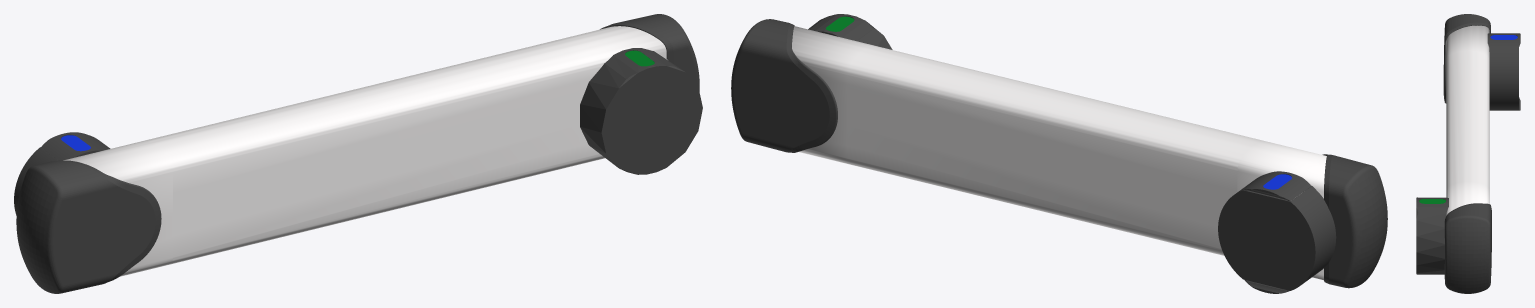
Rendered from BoomSegment_2_Top.fbx.
3 renders of one model, left to right at view 1: azimuth 30°, elevation 25°; view 2: azimuth 150°, elevation 25°; view 3: azimuth 270°, elevation 25°, orthographic. The views are drawn at different scales.
Parts seen in each view (by area): view 1: BoomSegment_1-2, BoomSegment_1-3, BoomSegment_1-1, BoomSegment_1-3.001; view 2: BoomSegment_1-2, BoomSegment_1-1, BoomSegment_1-3.001, BoomSegment_1-3; view 3: BoomSegment_1-1, BoomSegment_1-2, BoomSegment_1-3.001, BoomSegment_1-3.
Boxes of the visible parts, x1,y1,x2,y2 form: BoomSegment_1-2: [144, 42, 578, 264]; BoomSegment_1-3: [16, 141, 172, 293]; BoomSegment_1-1: [550, 14, 702, 174]; BoomSegment_1-3.001: [14, 132, 110, 215]; BoomSegment_1-2: [847, 46, 1264, 255]; BoomSegment_1-1: [731, 14, 892, 164]; BoomSegment_1-3.001: [1218, 171, 1336, 293]; BoomSegment_1-3: [1237, 141, 1387, 288]; BoomSegment_1-1: [1416, 181, 1491, 293]; BoomSegment_1-2: [1446, 51, 1489, 190]; BoomSegment_1-3.001: [1487, 33, 1520, 110]; BoomSegment_1-3: [1443, 14, 1490, 103].
Size of the model in its own units: 130 by 22.46 by 26.91.
